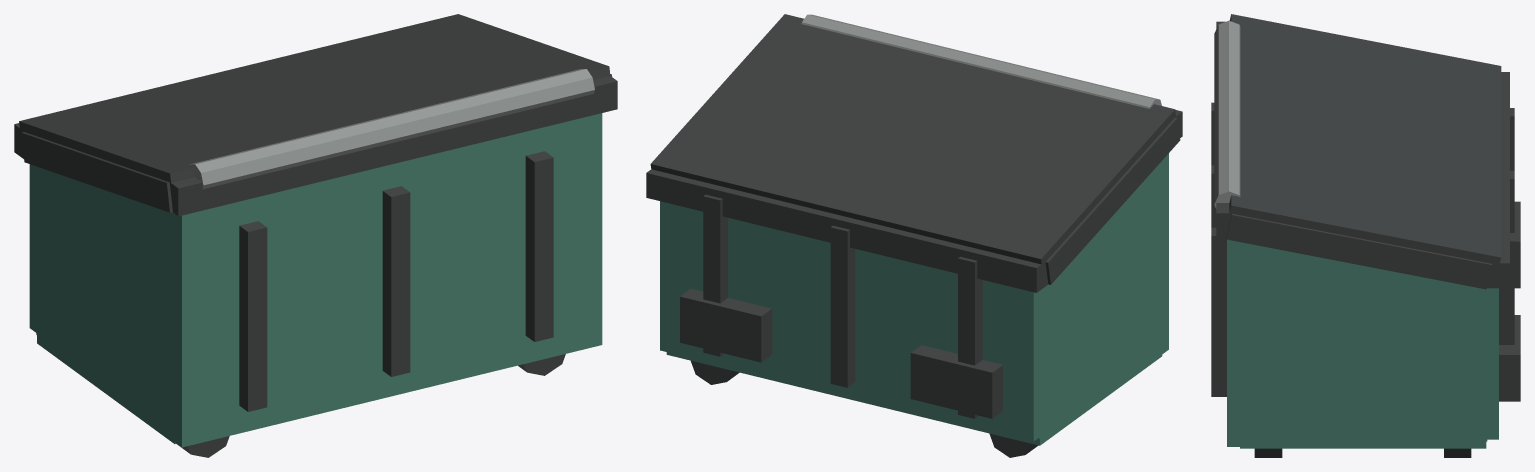
File: dumpster_green_unity.fbx
3 views of the same model, side by side, from view 1: azimuth 30°, elevation 25°; view 2: azimuth 150°, elevation 25°; view 3: azimuth 270°, elevation 25° (orthographic). The views are drawn at different scales.
Parts seen in each view (by area): view 1: body_back, Lid, body_right, HingePin, top_rim_back, back_rib_1, back_rib_2, back_rib_3, top_rim_right, body_bottom, body_front; view 2: Lid, body_front, body_right, top_rim_front, fork_pocket_1, fork_pocket_2, HingePin, front_rib_2, top_rim_right, front_rib_1, front_rib_3, body_bottom (+3 smaller); view 3: Lid, body_left, top_rim_left, body_back, HingePin, body_bottom, body_front, back_rib_1, top_rim_front, fork_pocket_1, front_rib_1, fork_pocket_2 (+1 smaller).
Boxes of the visible parts, <box> form: body_back: <box>168,113,602,447</box>; Lid: <box>19,14,610,183</box>; body_right: <box>36,166,175,436</box>; HingePin: <box>189,69,594,189</box>; top_rim_back: <box>164,76,617,216</box>; back_rib_1: <box>525,151,553,341</box>; back_rib_2: <box>382,186,410,376</box>; back_rib_3: <box>239,221,267,411</box>; top_rim_right: <box>21,132,172,212</box>; body_bottom: <box>37,321,176,443</box>; body_front: <box>29,164,42,332</box>; Lid: <box>650,14,1175,264</box>; body_front: <box>660,201,1045,441</box>; body_right: <box>1038,160,1162,438</box>; top_rim_front: <box>646,169,1048,292</box>; fork_pocket_1: <box>680,288,772,362</box>; fork_pocket_2: <box>910,345,1002,418</box>; HingePin: <box>801,14,1161,108</box>; front_rib_2: <box>830,225,855,387</box>; top_rim_right: <box>1045,117,1180,284</box>; front_rib_1: <box>703,194,727,356</box>; front_rib_3: <box>958,256,982,418</box>; body_bottom: <box>666,349,1162,445</box>; Lid: <box>1226,14,1501,276</box>; body_left: <box>1239,242,1487,441</box>; top_rim_left: <box>1226,214,1492,289</box>; body_back: <box>1227,239,1250,446</box>; HingePin: <box>1214,20,1240,208</box>; body_bottom: <box>1240,427,1486,448</box>; body_front: <box>1475,287,1498,439</box>; back_rib_1: <box>1211,227,1226,396</box>; top_rim_front: <box>1487,72,1509,288</box>; fork_pocket_1: <box>1499,315,1520,401</box>; front_rib_1: <box>1499,233,1514,344</box>; fork_pocket_2: <box>1514,201,1520,288</box>.
Bounding box in the file's own units: 2.33 × 1.56 × 1.57.
